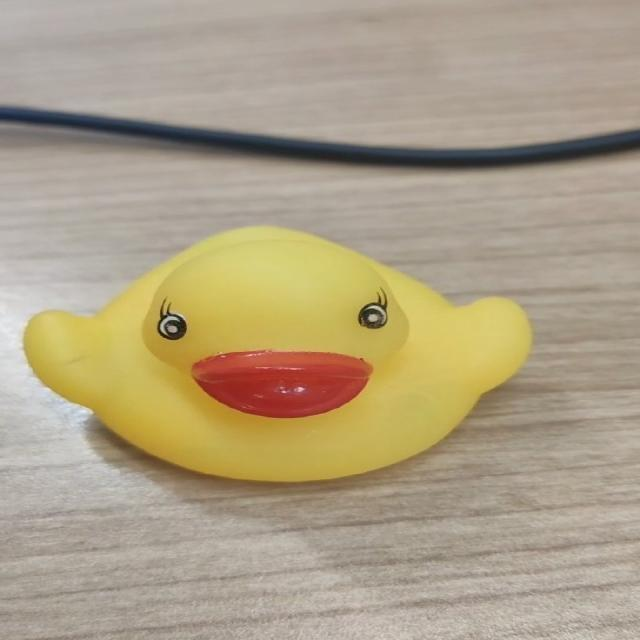rubber-duck: (23, 225, 530, 479)
